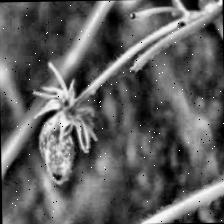Gray Mold: (31, 62, 100, 185)
